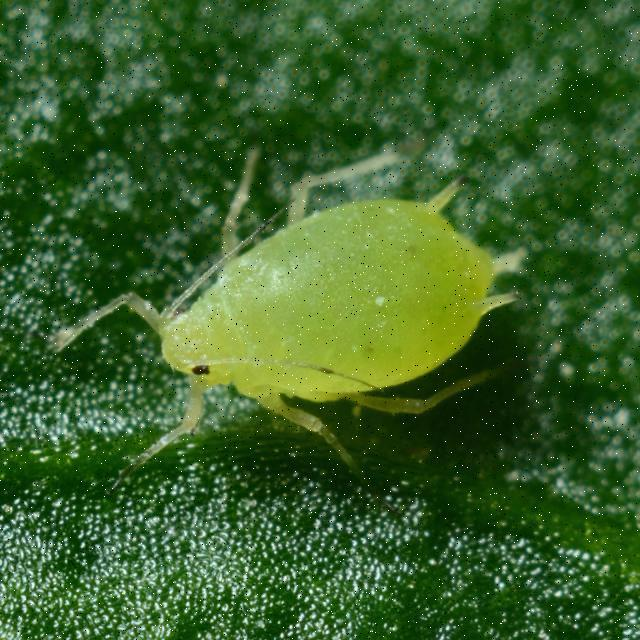Aphids: (50, 100, 550, 469)
